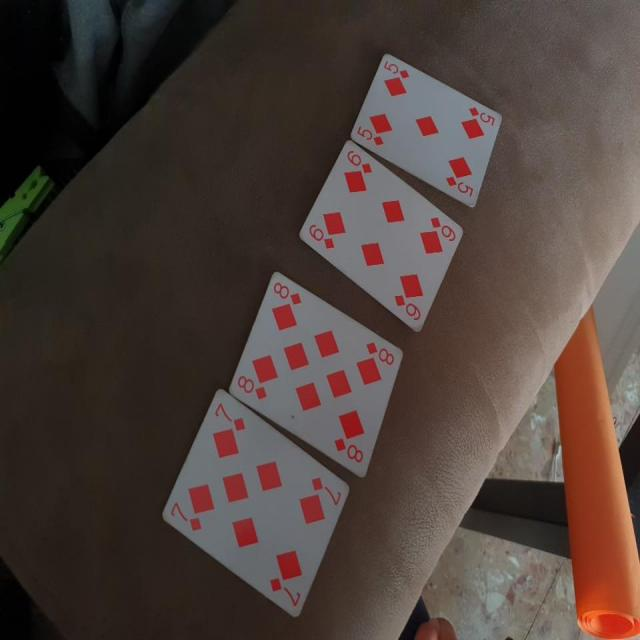5 Diamonds: (348, 51, 505, 212)
6 Diamonds: (297, 140, 465, 333)
7 Diamonds: (158, 388, 352, 620)
8 Diamonds: (227, 271, 403, 481)
